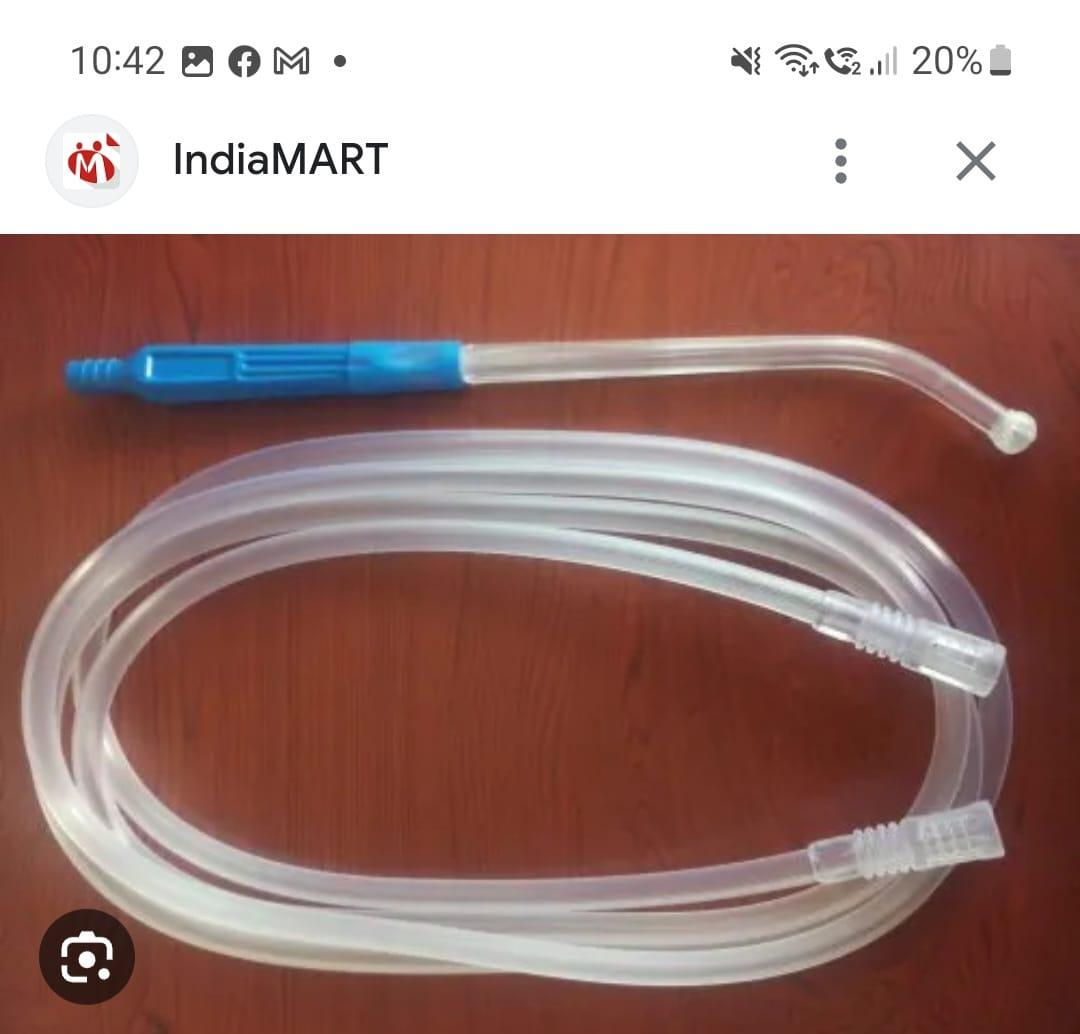Suction Tube Nozzle: (17, 315, 1048, 955)
